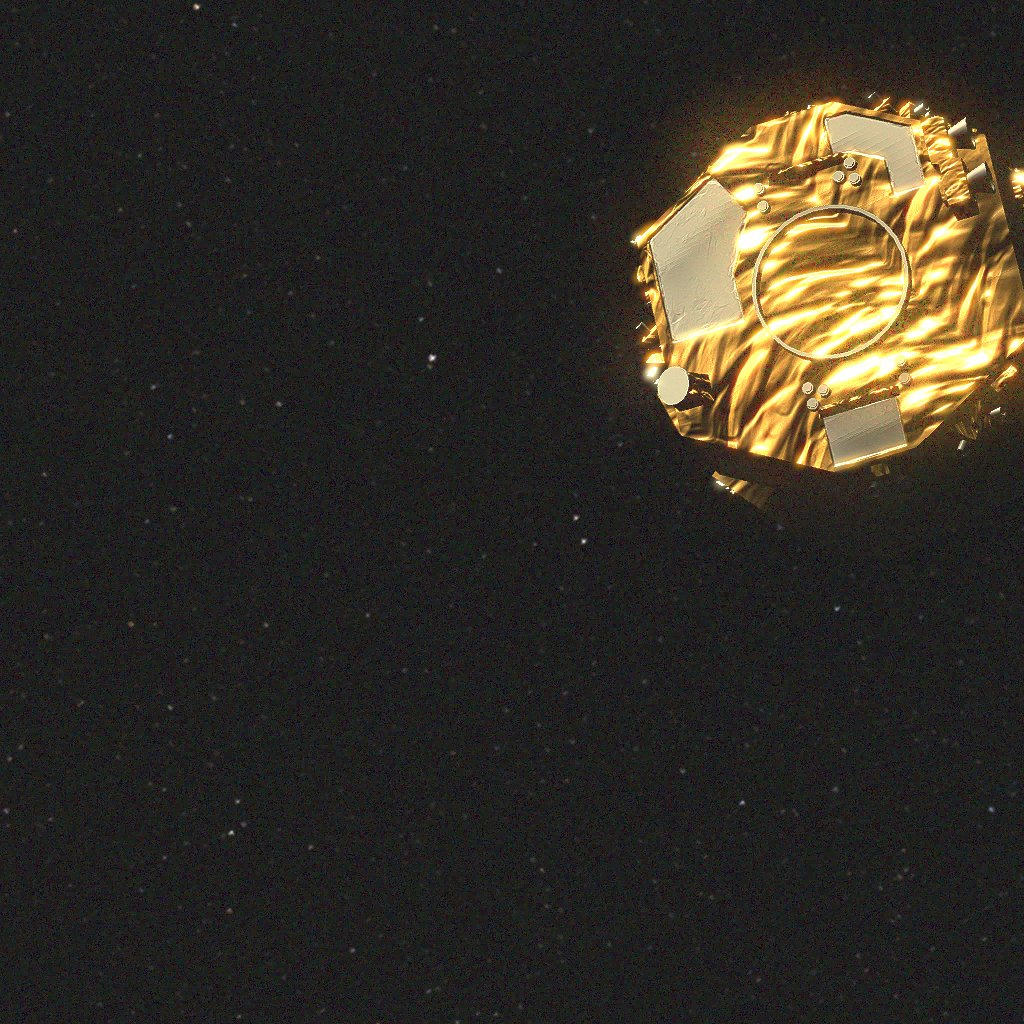lisa_pathfinder: (618, 125, 989, 528)
